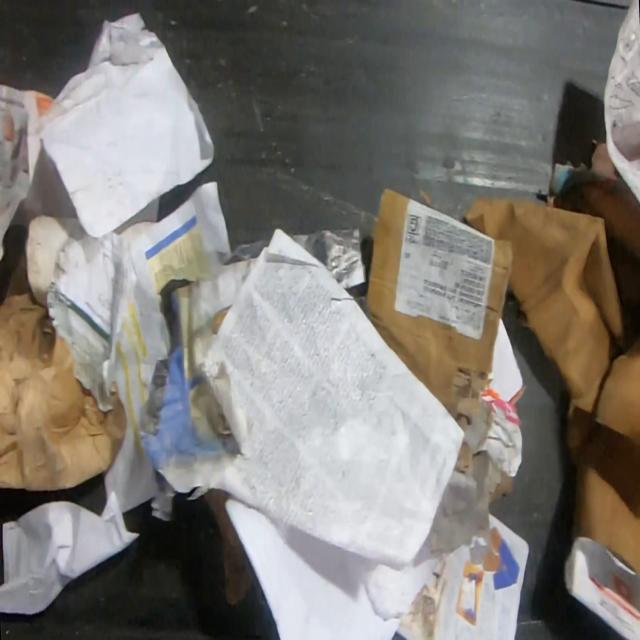cardboard: (466, 167, 640, 579), (362, 188, 510, 430), (202, 489, 256, 605), (23, 216, 86, 303)
